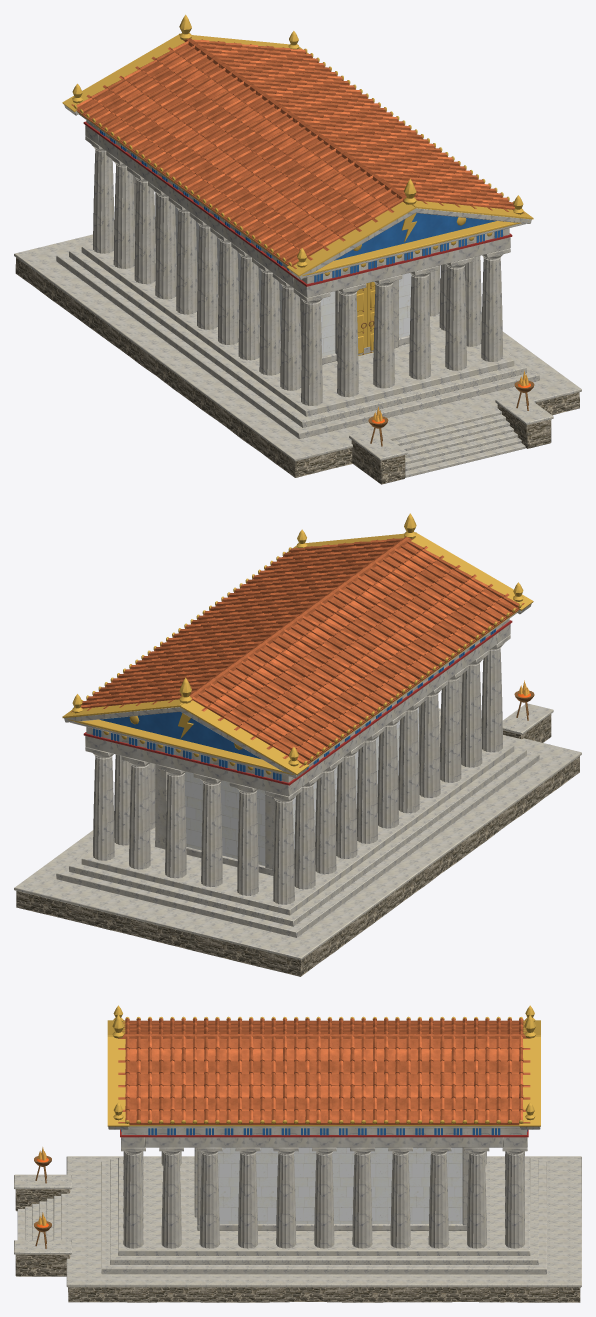
The model's file is civic_temple-zeus_stage4.glb.
The picture shows the model from 3 angles, top to bottom: view 1: azimuth 30°, elevation 25°; view 2: azimuth 150°, elevation 25°; view 3: azimuth 270°, elevation 25°; orthographic projection. The views are drawn at different scales.
Visible parts, largest first — view 1: marble, step, tile0, tile1, tile2, gold, stone, azure, hall.001, red; view 2: marble, step, tile0, tile1, tile2, stone, gold, hall.001, azure, red; view 3: step, marble, tile0, tile1, tile2, hall.001, stone, gold, azure, red.
Boxes of the visible parts, x1=… form: marble: x1=64, y1=105, x2=531, y2=405; step: x1=14, y1=234, x2=581, y2=477; tile0: x1=77, y1=41, x2=514, y2=266; tile1: x1=71, y1=38, x2=524, y2=268; tile2: x1=76, y1=39, x2=509, y2=259; gold: x1=62, y1=14, x2=533, y2=355; stone: x1=15, y1=257, x2=579, y2=484; azure: x1=100, y1=130, x2=502, y2=282; hall.001: x1=175, y1=207, x2=411, y2=356; red: x1=83, y1=121, x2=512, y2=286; marble: x1=64, y1=604, x2=531, y2=904; step: x1=14, y1=703, x2=581, y2=960; tile0: x1=86, y1=538, x2=519, y2=764; tile1: x1=71, y1=536, x2=524, y2=767; tile2: x1=81, y1=540, x2=507, y2=765; stone: x1=16, y1=714, x2=579, y2=976; gold: x1=62, y1=513, x2=533, y2=775; hall.001: x1=184, y1=707, x2=418, y2=865; azure: x1=93, y1=629, x2=495, y2=781; red: x1=83, y1=620, x2=512, y2=785; step: x1=14, y1=1156, x2=581, y2=1287; marble: x1=108, y1=1126, x2=540, y2=1248; tile0: x1=118, y1=1018, x2=530, y2=1124; tile1: x1=118, y1=1018, x2=530, y2=1123; tile2: x1=118, y1=1018, x2=530, y2=1123; hall.001: x1=217, y1=1147, x2=462, y2=1223; stone: x1=15, y1=1189, x2=580, y2=1302; gold: x1=107, y1=1005, x2=540, y2=1126; azure: x1=121, y1=1128, x2=527, y2=1135; red: x1=120, y1=1129, x2=528, y2=1137.
Bounding box in the file's own units: 15.16 × 12.34 × 28.28.
13 materials, 10 textured.
